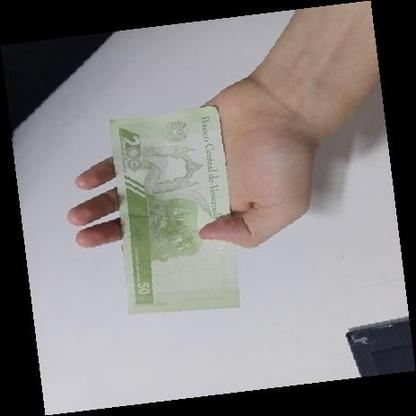fifty-back-vef: (109, 106, 241, 314)
